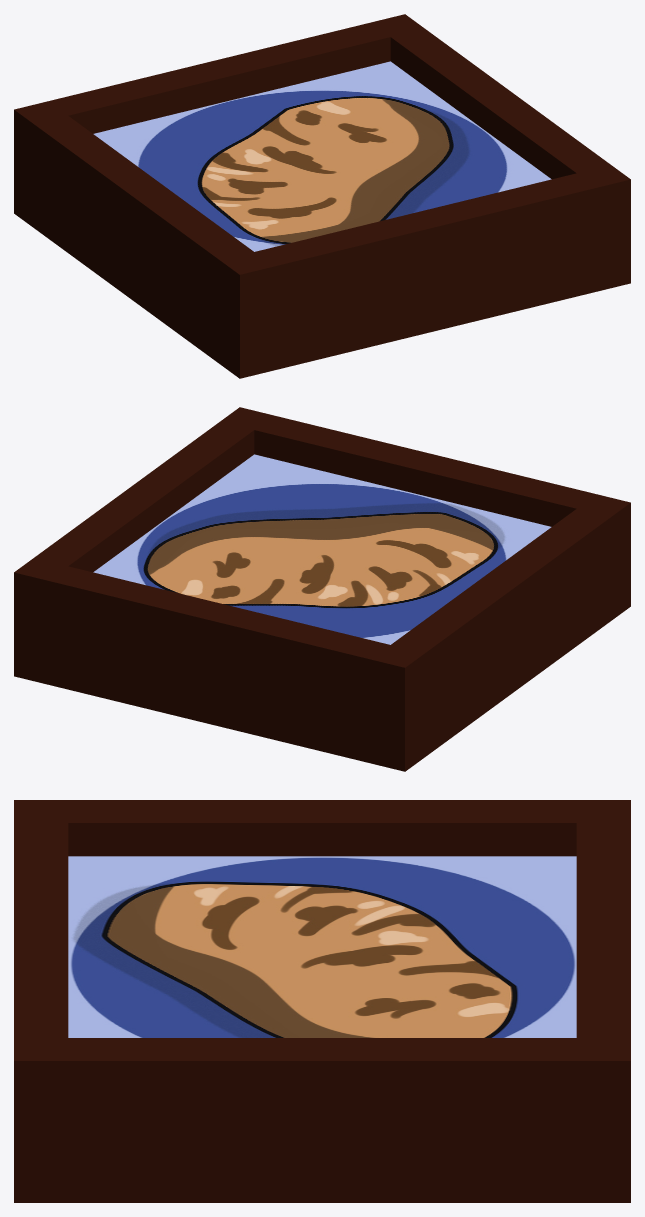
The model's file is disk_potet 1.FBX.
The picture shows the model from 3 angles, top to bottom: view 1: azimuth 30°, elevation 25°; view 2: azimuth 150°, elevation 25°; view 3: azimuth 270°, elevation 25°; orthographic projection. The views are drawn at different scales.
Parts seen in each view (by area): view 1: Box052; view 2: Box052; view 3: Box052.
Boxes of the visible parts, box(x1,y1,x2,y2) form: Box052: box(14, 14, 630, 378); Box052: box(14, 407, 630, 771); Box052: box(14, 800, 630, 1202).
Size of the model in its own units: 197 by 49.99 by 197.
